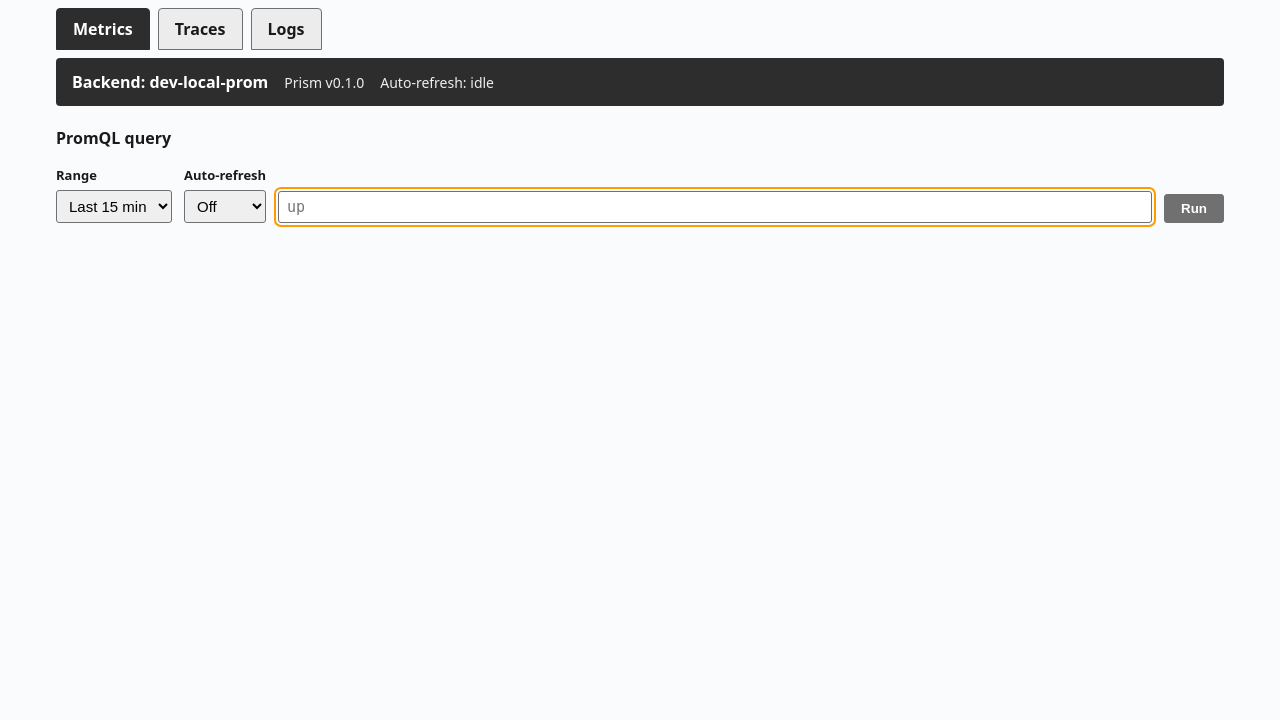
Test case: Slice 07 routing — Metrics and Traces live on separate routes › renders QueryPanel on / and switches to the TraceExplorerPanel via the nav
Expected: the link with test id "nav-metrics" is shown, [56,8,150,50]
# Switching to Traces mounts the linked-view panel and unmounts QueryPanel.
What coordinates should you click on to do the following:
click the link with test id "nav-traces"
I would click on:
 (200, 29)
Its box is [158,8,242,50].
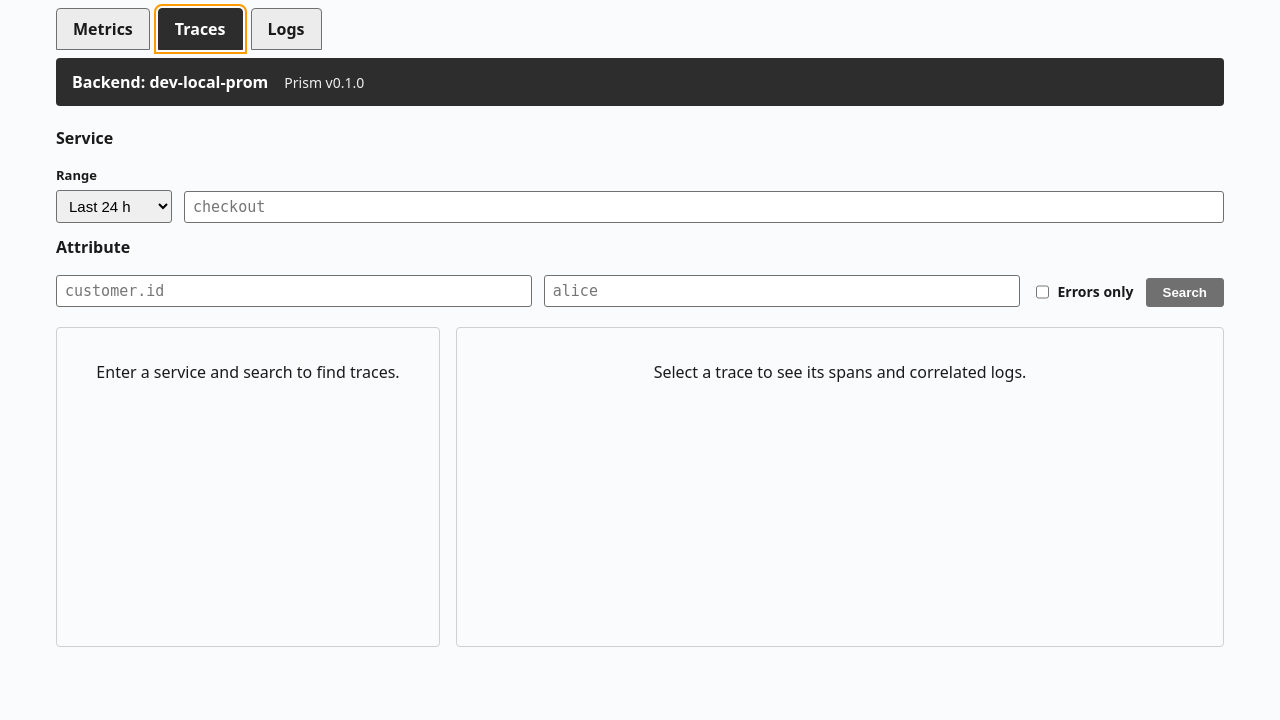
# And back again.
What coordinates should you click on to do the following:
click the link with test id "nav-metrics"
I would click on:
 (103, 29)
Its box is [56,8,150,50].
(page scrolled)
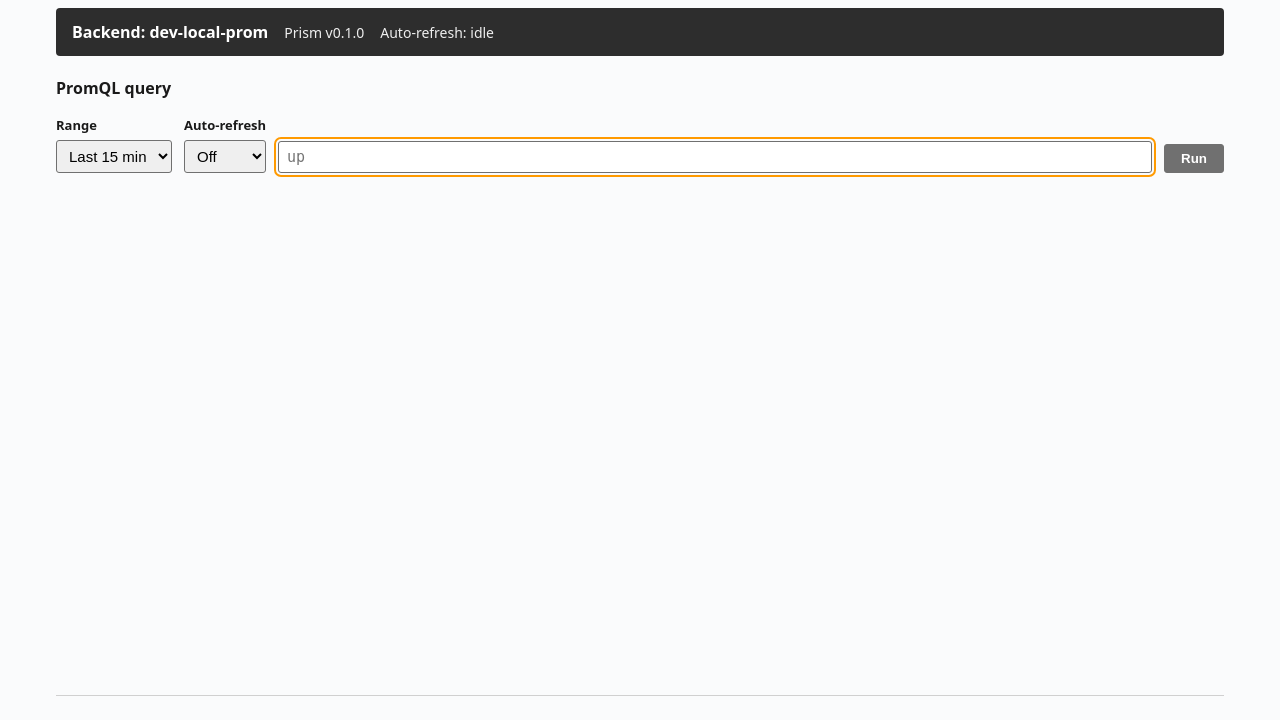
Now the element with test id "query-panel" is shown
